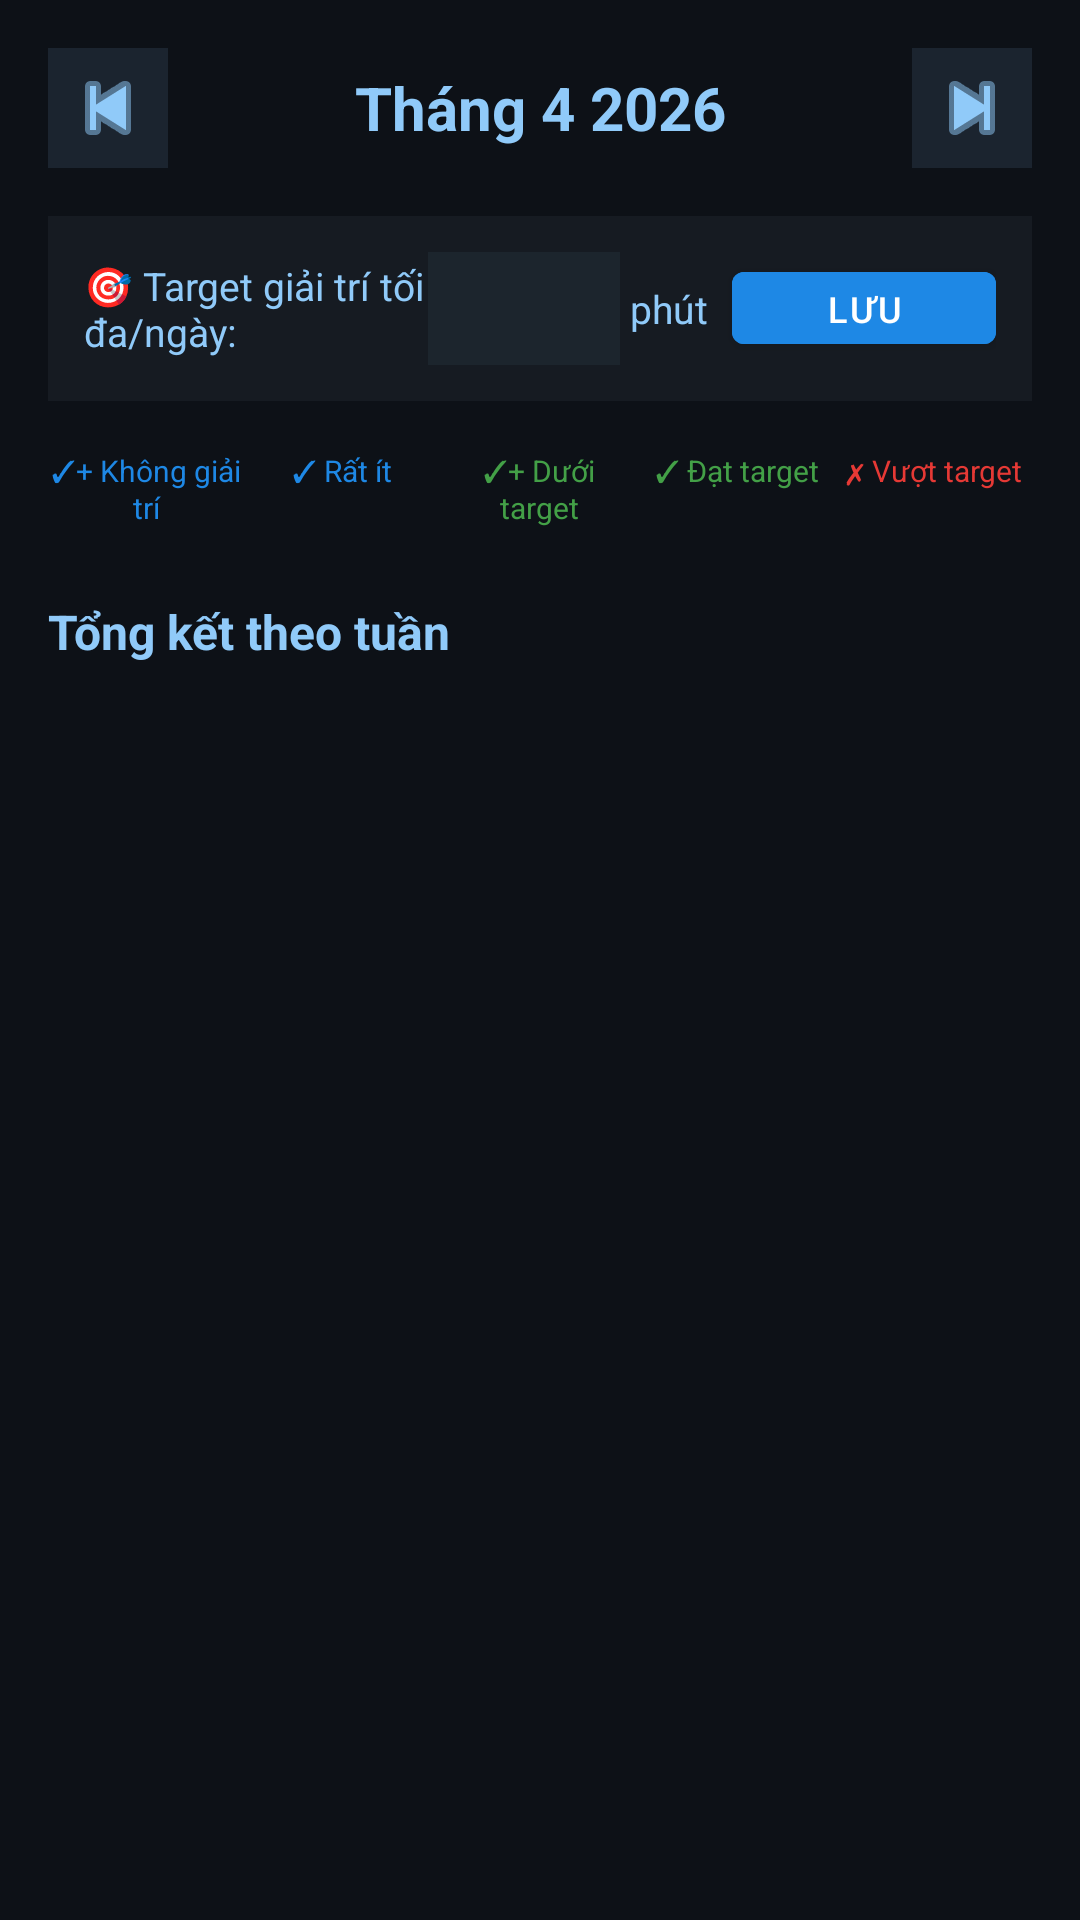

Icons on this 1080×1920 Android screen, each with the point to tap as (x,y):
next: (972,108)
previous: (108,108)
